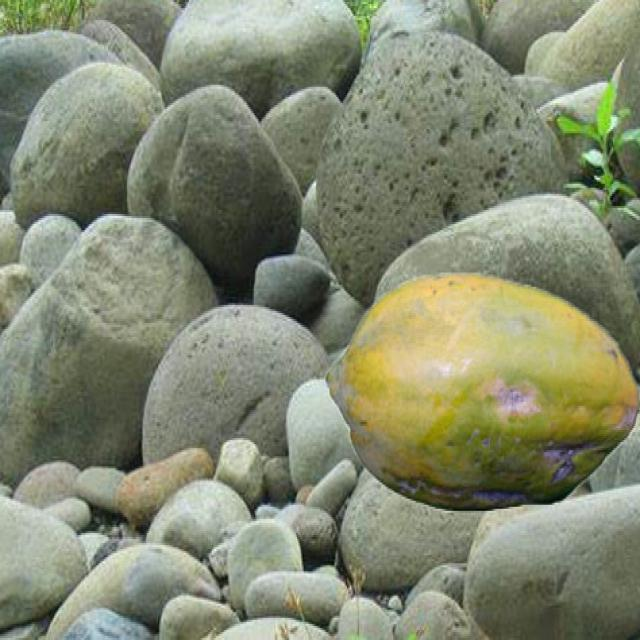Pepaya rippen: (324, 272, 640, 502)
